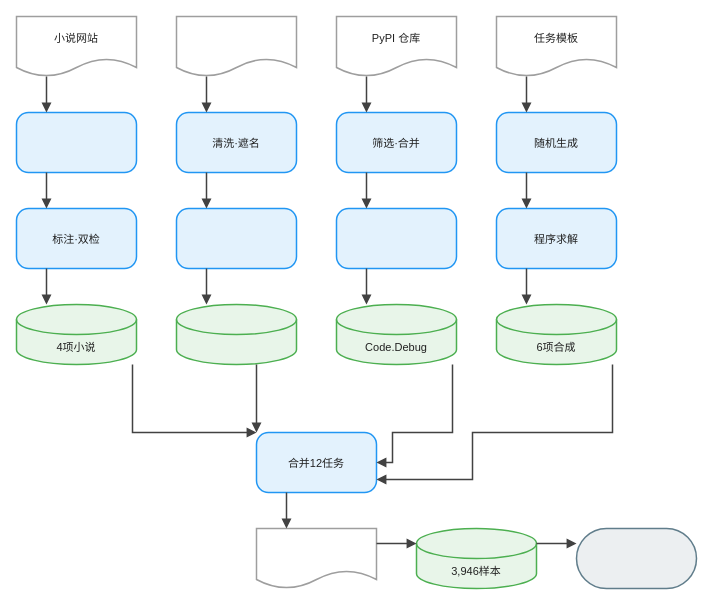
Image size: 713x605. Some labels were removed from this diagram. Each missing label, with the box of its shape:
En.Dia: (175, 303, 297, 365)
HF 固定发布: (575, 527, 697, 589)
IMSDB 剧本: (175, 15, 297, 77)
五字段JSONL: (255, 527, 377, 589)
注错·选项: (335, 207, 457, 269)
答案·补齐: (175, 207, 297, 269)
筛选·替换: (15, 111, 137, 173)
